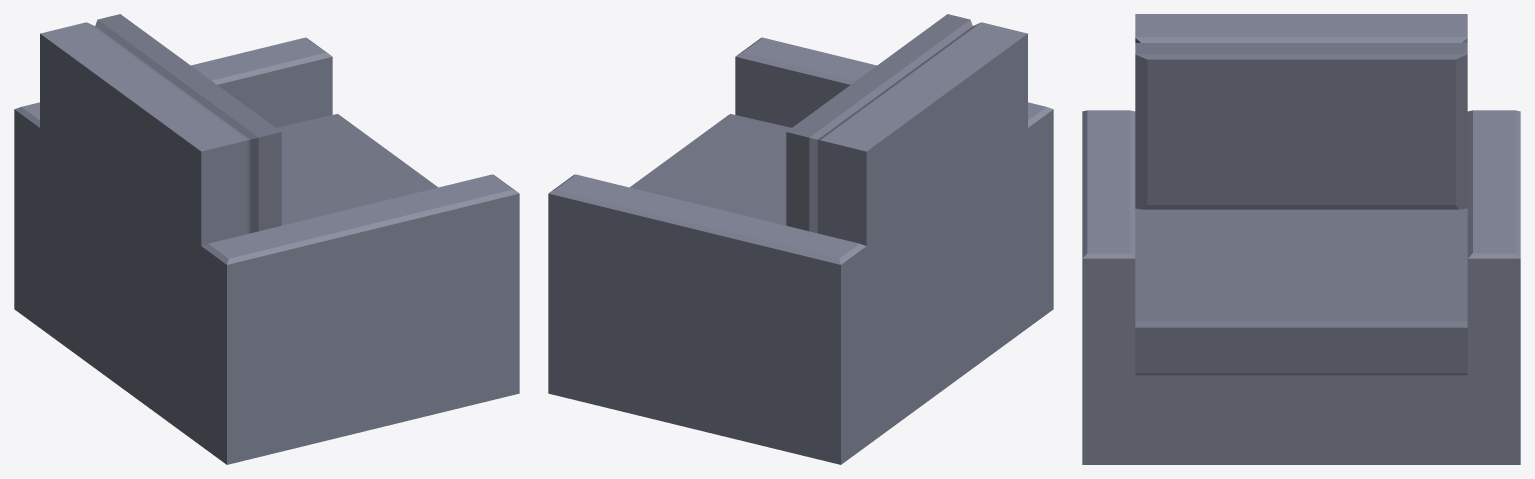
Rendered from MiniSofaWithoutLegs.fbx.
The picture shows the model from 3 angles, left to right: view 1: azimuth 30°, elevation 25°; view 2: azimuth 150°, elevation 25°; view 3: azimuth 270°, elevation 25°; orthographic projection. The views are drawn at different scales.
Visible parts, largest first — view 1: MiniSofaWithoutLegs; view 2: MiniSofaWithoutLegs; view 3: MiniSofaWithoutLegs.
Boxes of the visible parts, x1,y1,x2,y2 form: MiniSofaWithoutLegs: (14,14,519,464); MiniSofaWithoutLegs: (548,14,1053,464); MiniSofaWithoutLegs: (1082,14,1520,464).
Size of the model in its own units: 117 by 110 by 143.
